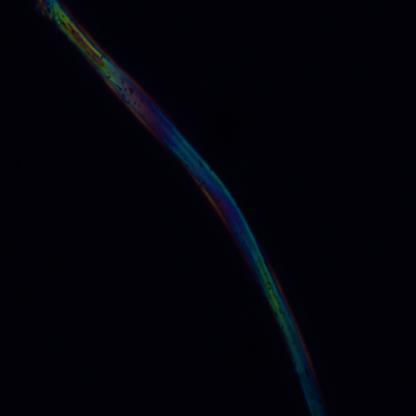Microfibre: (37, 1, 324, 415)
